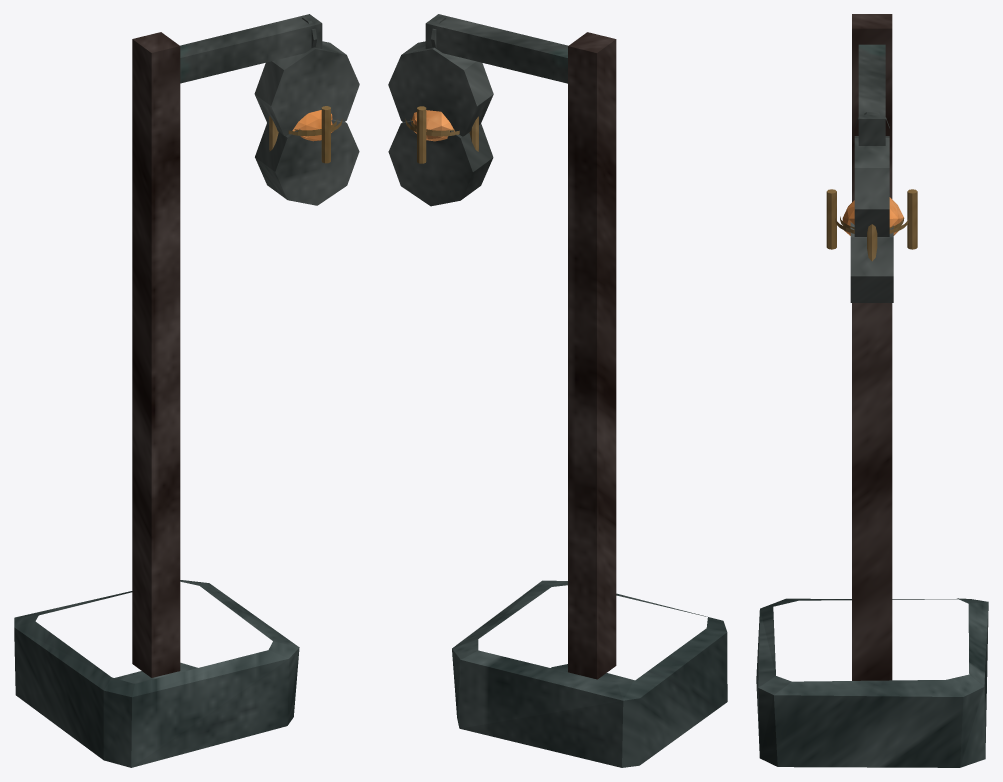
Rendered from 0725_lantern_post_25.glb.
3 renders of one model, left to right at view 1: azimuth 30°, elevation 25°; view 2: azimuth 150°, elevation 25°; view 3: azimuth 270°, elevation 25°, orthographic. The views are drawn at different scales.
Parts seen in each view (by area): view 1: wood_dark, stone_dark, iron, brass; view 2: wood_dark, stone_dark, iron, brass, amber; view 3: stone_dark, wood_dark, iron, brass, amber.
Boxes of the visible parts, x1,y1,x2,y2 form: wood_dark: (132, 32, 180, 677); stone_dark: (14, 580, 299, 767); iron: (180, 14, 359, 205); brass: (269, 106, 342, 163); wood_dark: (568, 32, 616, 679); stone_dark: (452, 580, 727, 767); iron: (388, 14, 568, 206); brass: (405, 106, 478, 163); amber: (411, 110, 454, 141); stone_dark: (756, 598, 988, 767); wood_dark: (852, 14, 892, 680); iron: (850, 44, 893, 302); brass: (826, 189, 917, 261); amber: (842, 197, 904, 235).
Bounding box in the file's own units: 1.31 × 2.89 × 0.8636.
5 materials, 5 textured.
